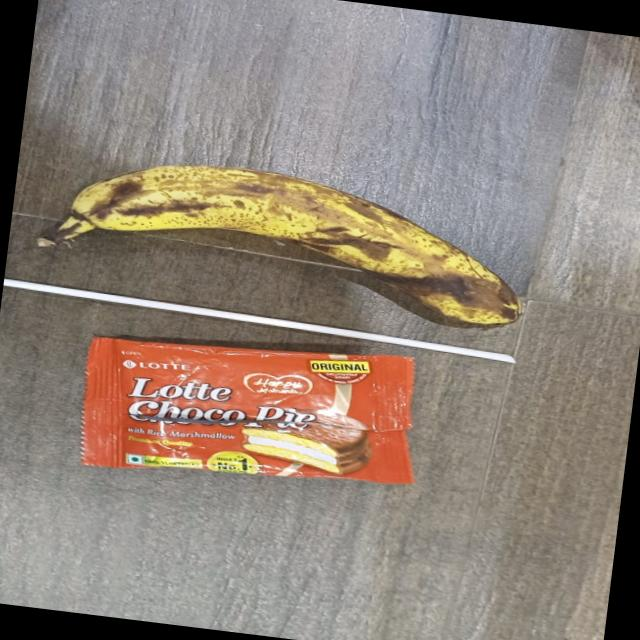Banana-Bio: (31, 144, 528, 333)
Plastic-NonBio: (73, 316, 434, 506)
Straw-NonBio: (1, 276, 515, 364)
